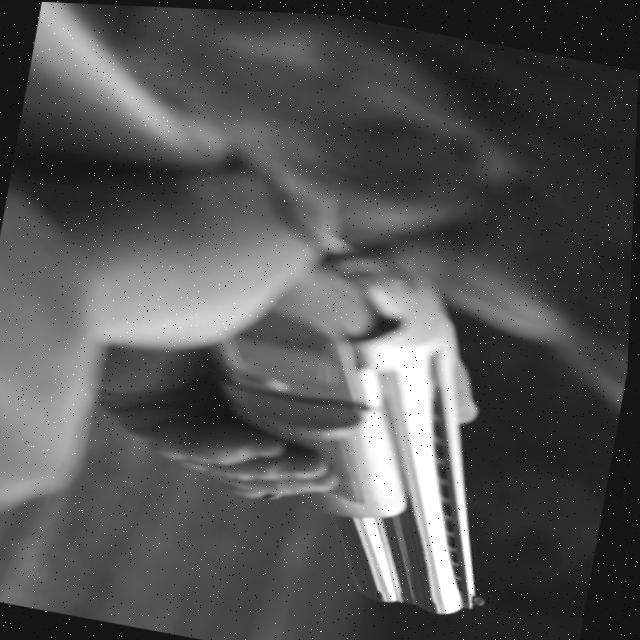firearm: (0, 0, 586, 618)
